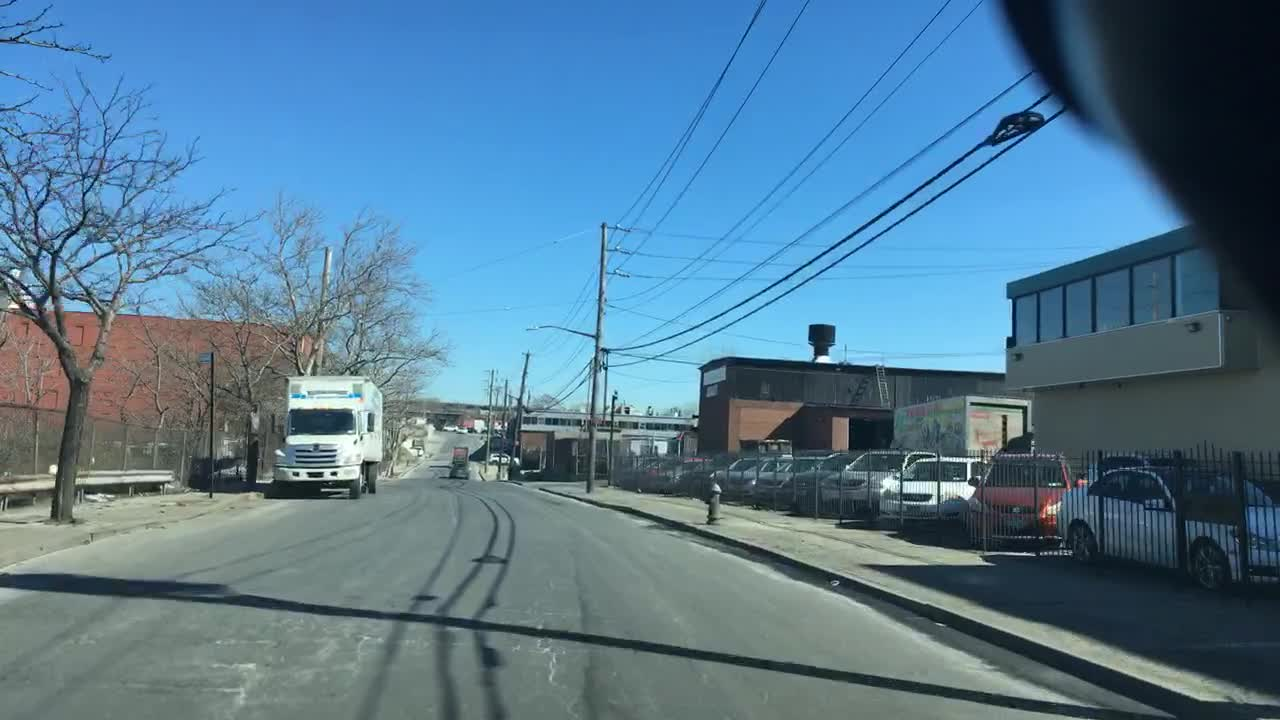car: (1057, 465, 1279, 589), (960, 455, 1086, 549), (875, 455, 985, 528), (822, 450, 917, 514), (789, 457, 857, 507), (758, 455, 812, 504), (707, 460, 763, 507), (742, 455, 789, 509), (681, 464, 728, 498), (665, 462, 705, 498), (649, 465, 684, 500), (1088, 453, 1154, 471), (639, 462, 677, 493), (626, 462, 649, 490), (488, 453, 515, 464), (451, 461, 467, 479)
person: (244, 437, 261, 486)
truck: (272, 374, 382, 498), (451, 446, 467, 458)
